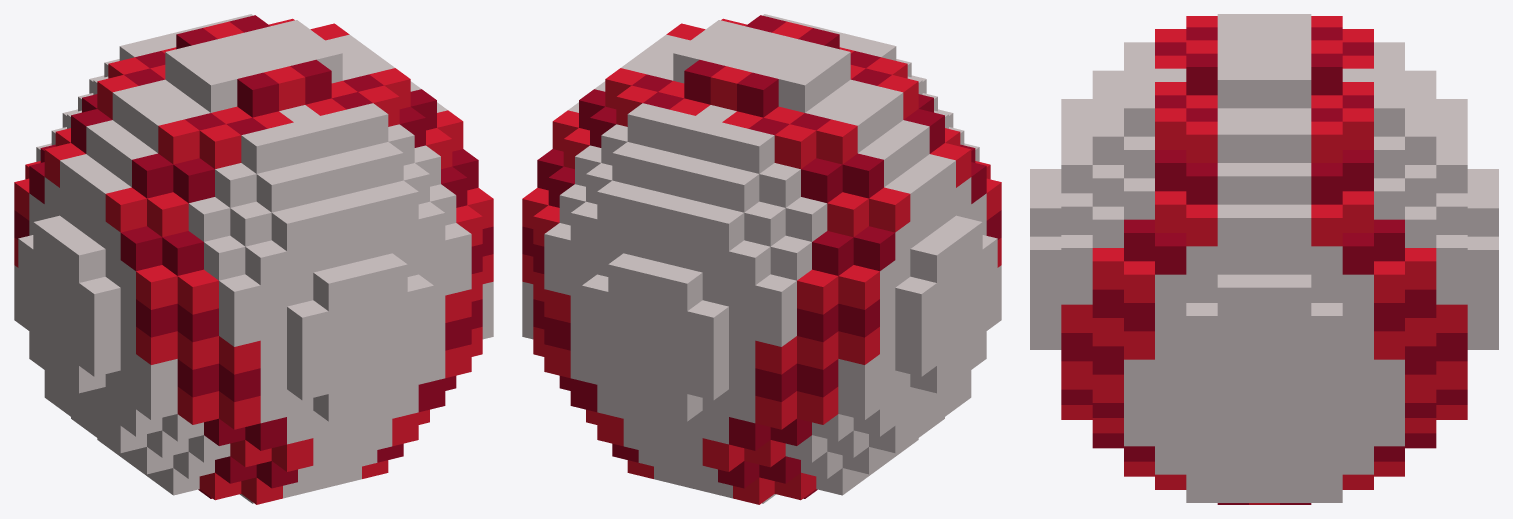
Rendered from Baseball.fbx.
The picture shows the model from 3 angles, left to right: view 1: azimuth 30°, elevation 25°; view 2: azimuth 150°, elevation 25°; view 3: azimuth 270°, elevation 25°; orthographic projection. The views are drawn at different scales.
Parts seen in each view (by area): view 1: Untitled.001; view 2: Untitled.001; view 3: Untitled.001.
Part boxes in pixels (bbox=[...]): Untitled.001: bbox=[14, 14, 493, 504]; Untitled.001: bbox=[522, 14, 1001, 504]; Untitled.001: bbox=[1030, 14, 1498, 504].
Bounding box in the file's own units: 150 × 150 × 150.
